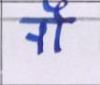ai_matra: (42, 0, 70, 19)
